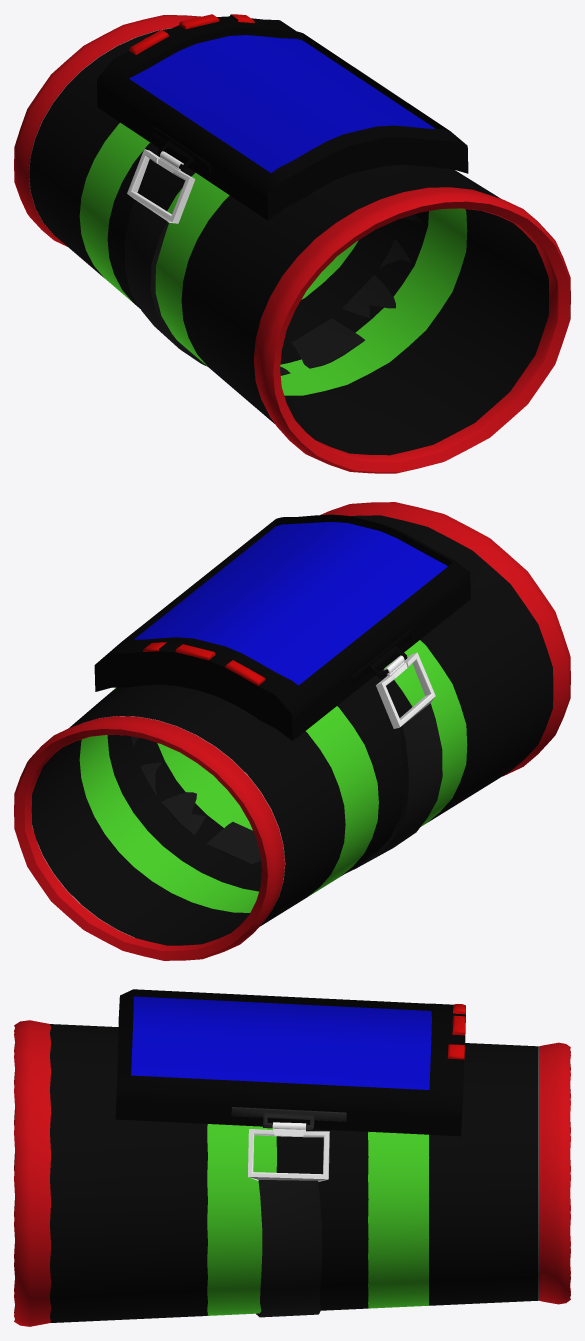
Rendered from Wrist.fbx.
3 renders of one model, top to bottom at view 1: azimuth 30°, elevation 25°; view 2: azimuth 150°, elevation 25°; view 3: azimuth 270°, elevation 25°, orthographic.
Parts seen in each view (by area): view 1: Cylinder (×3), Base (×3), Cube.001 (×2); view 2: Cylinder (×3), Base (×3), Cube.001 (×2); view 3: Cylinder (×3), Base (×4), Cube.001 (×2).
Part boxes in pixels (<box>): Cylinder (×3): <box>14,15,570,473</box>; Base (×3): <box>97,14,468,220</box>; Cube.001 (×2): <box>124,149,421,375</box>; Cylinder (×3): <box>14,502,570,960</box>; Base (×3): <box>94,514,470,740</box>; Cube.001 (×2): <box>130,652,442,872</box>; Cylinder (×3): <box>14,1020,570,1326</box>; Base (×4): <box>115,989,465,1136</box>; Cube.001 (×2): <box>248,1122,329,1317</box>.
Bounding box in the file's own units: 203 × 188 × 322.
